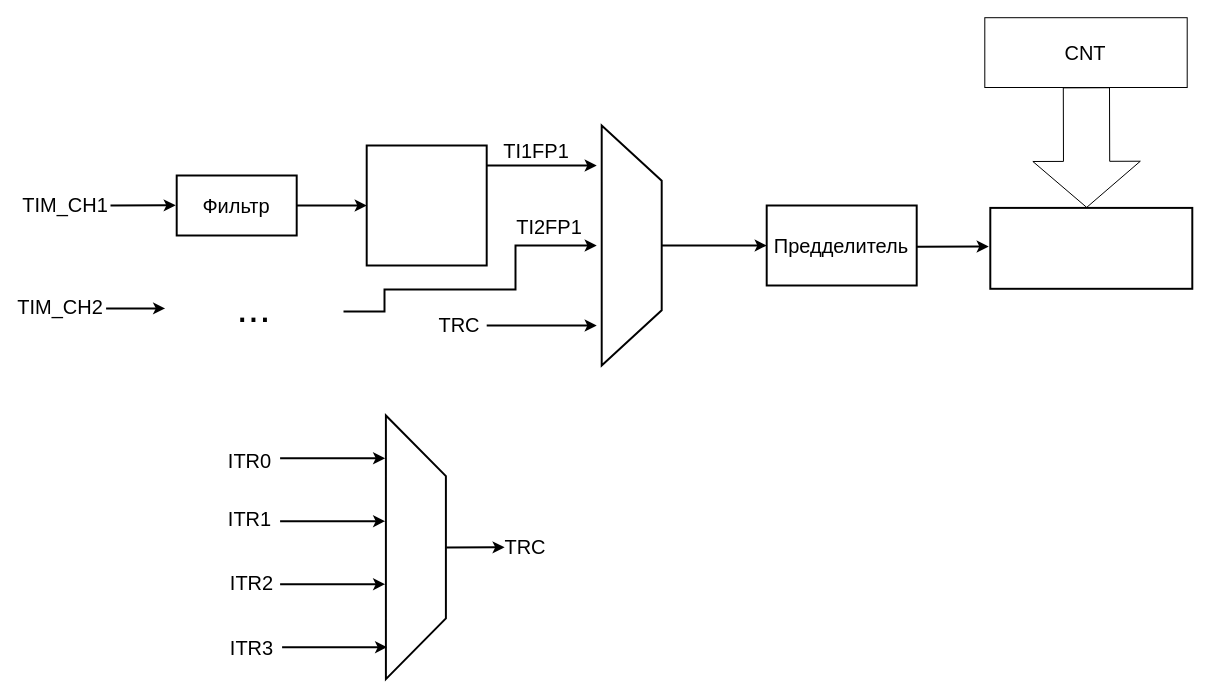
Image size: 1210x697. Some labels were removed from this diagram. The shapes that lost their labels are listed below. From the top down, each one's centre as x and y in pixels, then its label:
(x=426, y=205): Детектор фронтов
(x=1091, y=247): Регистр захвата/сравнения
